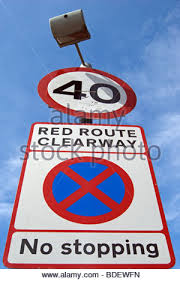Speed_limit_40km: (37, 65, 137, 120)
